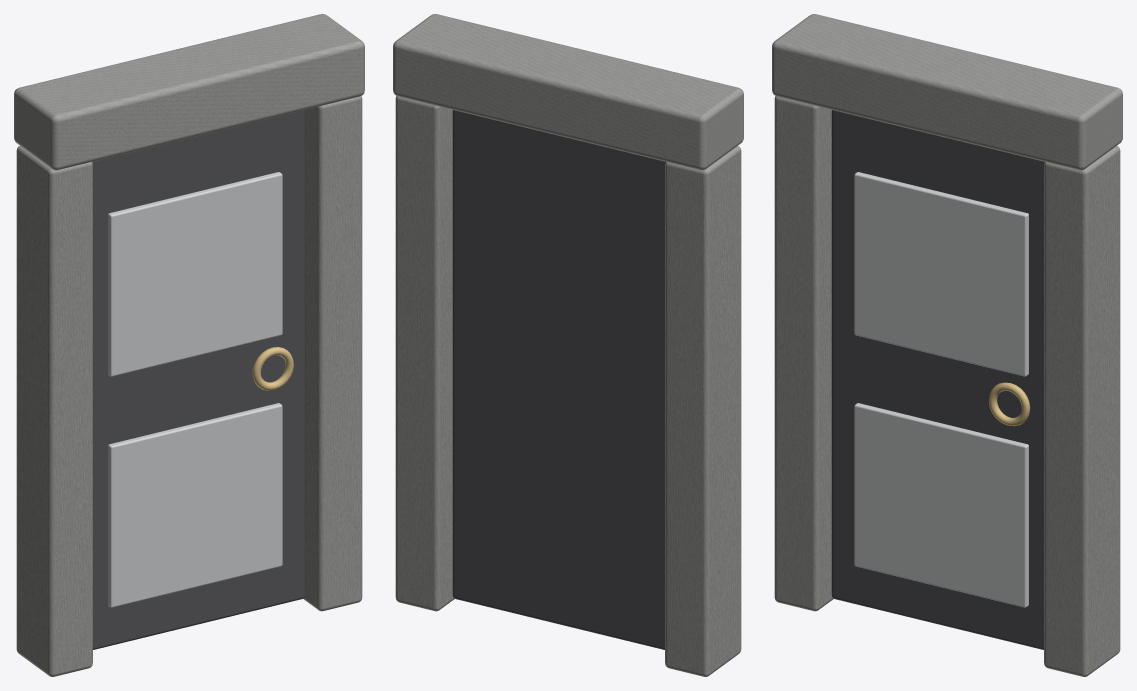
File: paranormal-investigation-house-mausoleum-door-61177481__26890.glb
3 renders of one model, left to right at view 1: azimuth 30°, elevation 25°; view 2: azimuth 150°, elevation 25°; view 3: azimuth 330°, elevation 25°, orthographic.
Visible parts, largest first — view 1: mausoleum-door (×4); view 2: mausoleum-door (×2); view 3: mausoleum-door (×4).
Boxes of the visible parts, <box> form: mausoleum-door (×4): <box>14,14,364,676</box>; mausoleum-door (×2): <box>393,14,743,676</box>; mausoleum-door (×4): <box>772,14,1122,676</box>.
Size of the model in its own units: 1.42 by 2.44 by 0.33.
4 materials, 1 textured.
